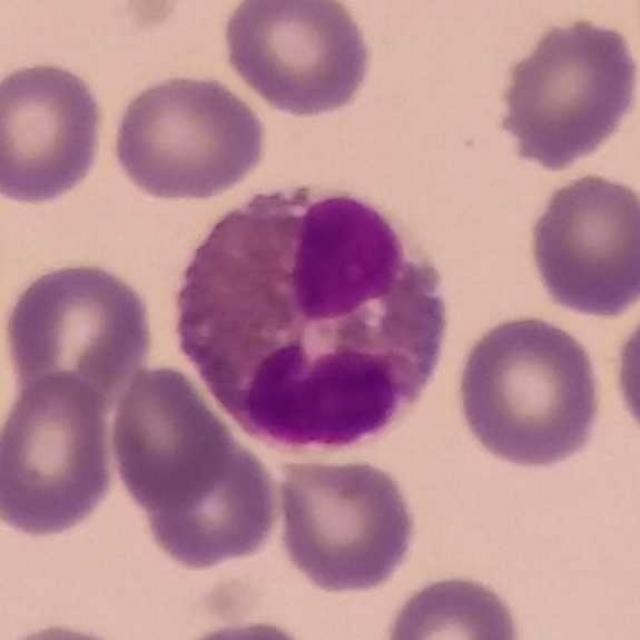Eosinophil: (162, 169, 462, 461)
RBC: (450, 311, 606, 473), (492, 12, 640, 172), (1, 256, 158, 406), (127, 428, 284, 574), (107, 69, 270, 204), (271, 451, 422, 595), (0, 367, 120, 543), (105, 359, 236, 516), (217, 0, 376, 120), (522, 169, 640, 320), (0, 57, 109, 209), (379, 570, 526, 640), (55, 0, 197, 38), (609, 284, 640, 454), (160, 615, 327, 640), (0, 617, 147, 640)
